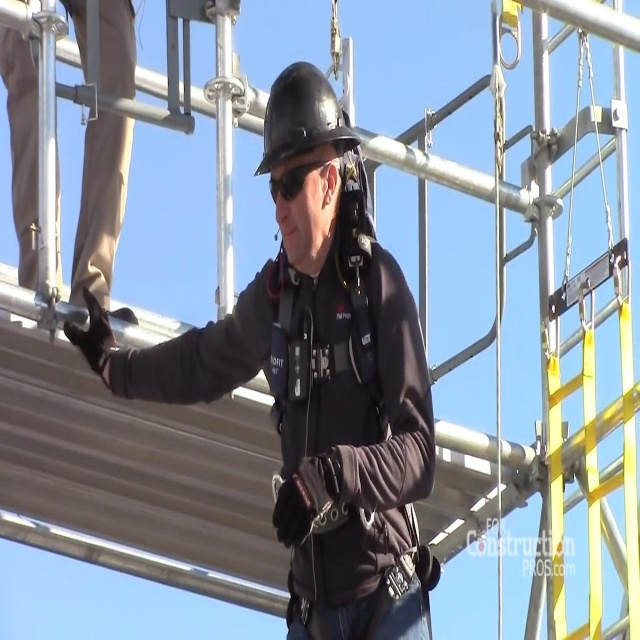Arnes_seguridad: (263, 110, 441, 640)
